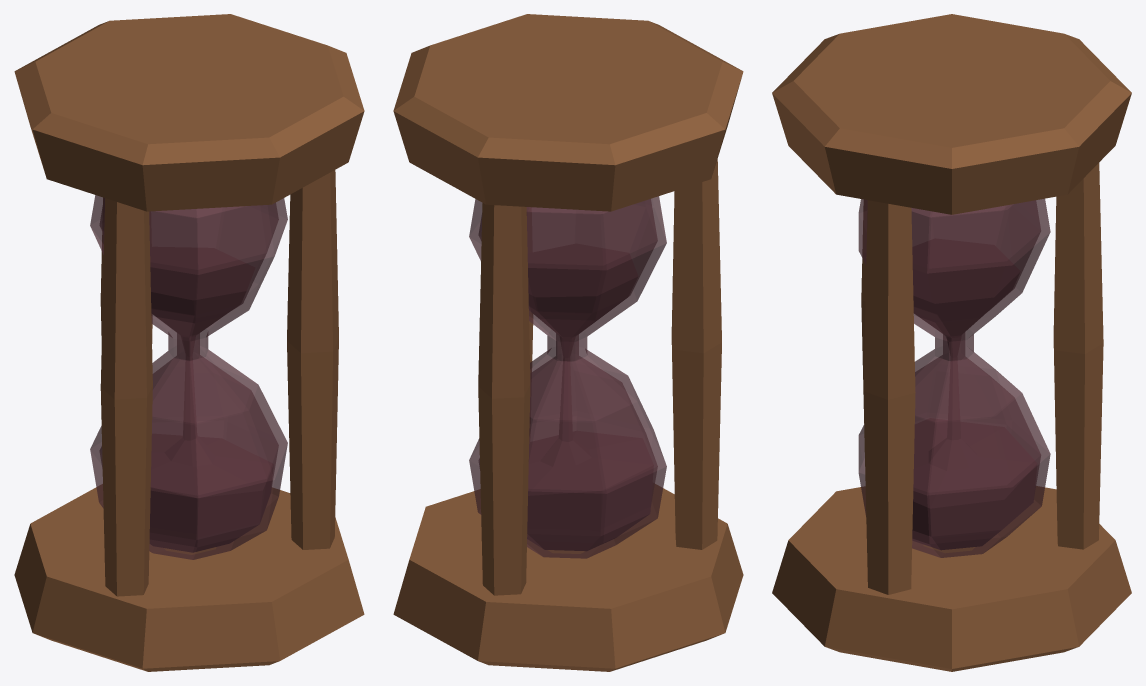
Rendered from hourglass.fbx.
3 renders of one model, left to right at view 1: azimuth 30°, elevation 25°; view 2: azimuth 150°, elevation 25°; view 3: azimuth 270°, elevation 25°, orthographic.
Visible parts, largest first — view 1: hourglass; view 2: hourglass; view 3: hourglass.
Boxes of the visible parts, x1,y1,x2,y2 form: hourglass: (14,14,364,671); hourglass: (393,14,743,671); hourglass: (772,14,1131,671).
Bounding box in the file's own units: 0.1345 × 0.216 × 0.1345.
